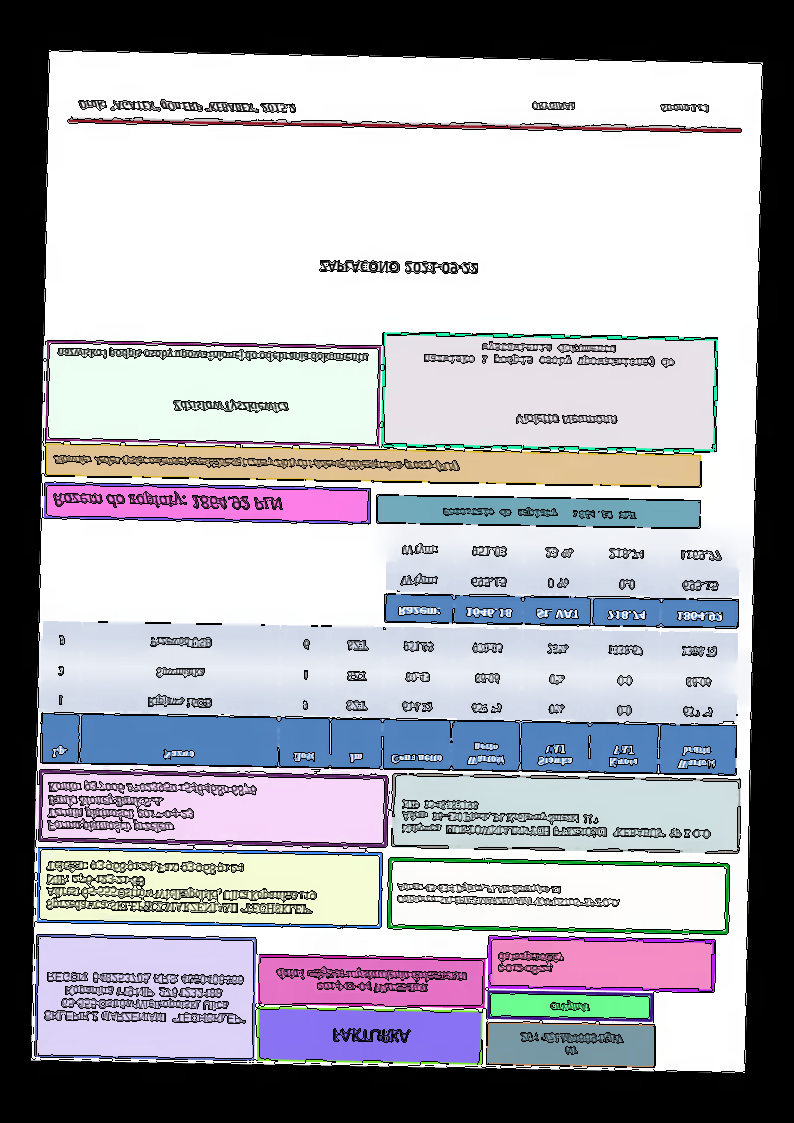Table: (38, 620, 739, 778), (382, 530, 740, 629)
TextBox: (42, 856, 320, 920), (398, 795, 714, 841), (44, 777, 260, 839), (41, 968, 247, 1027), (50, 451, 461, 475), (420, 339, 680, 372), (394, 881, 620, 912), (53, 345, 371, 367), (49, 487, 284, 514), (273, 964, 470, 996), (74, 95, 300, 118), (516, 1028, 626, 1060), (316, 257, 482, 278), (437, 506, 638, 523), (526, 99, 713, 117), (171, 397, 290, 419), (493, 947, 566, 978), (512, 410, 617, 430), (330, 1024, 413, 1046), (548, 998, 593, 1015)
